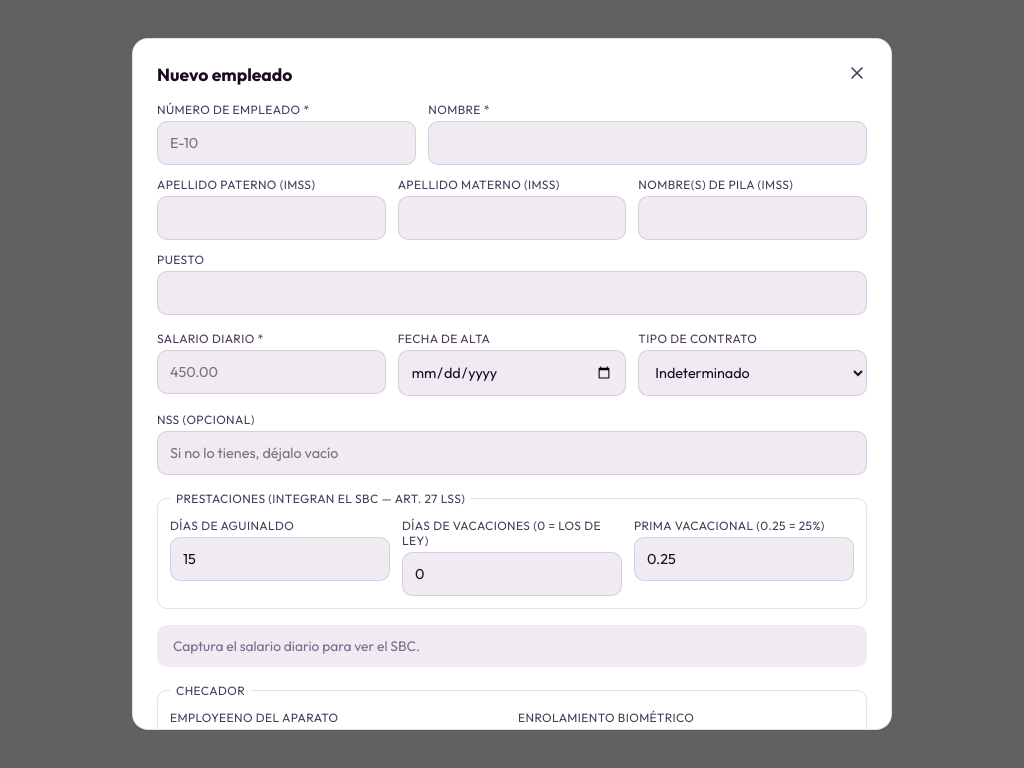
Test: ModalEmpleado · el número interno tampoco › avisa y no deja guardar si ya existe
This screenshot has width=1024, height=768.
Step 1. Type "N-01" into the field labelled "Número de empleado *" → {"x": 287, "y": 143}, box [157,121,416,165]
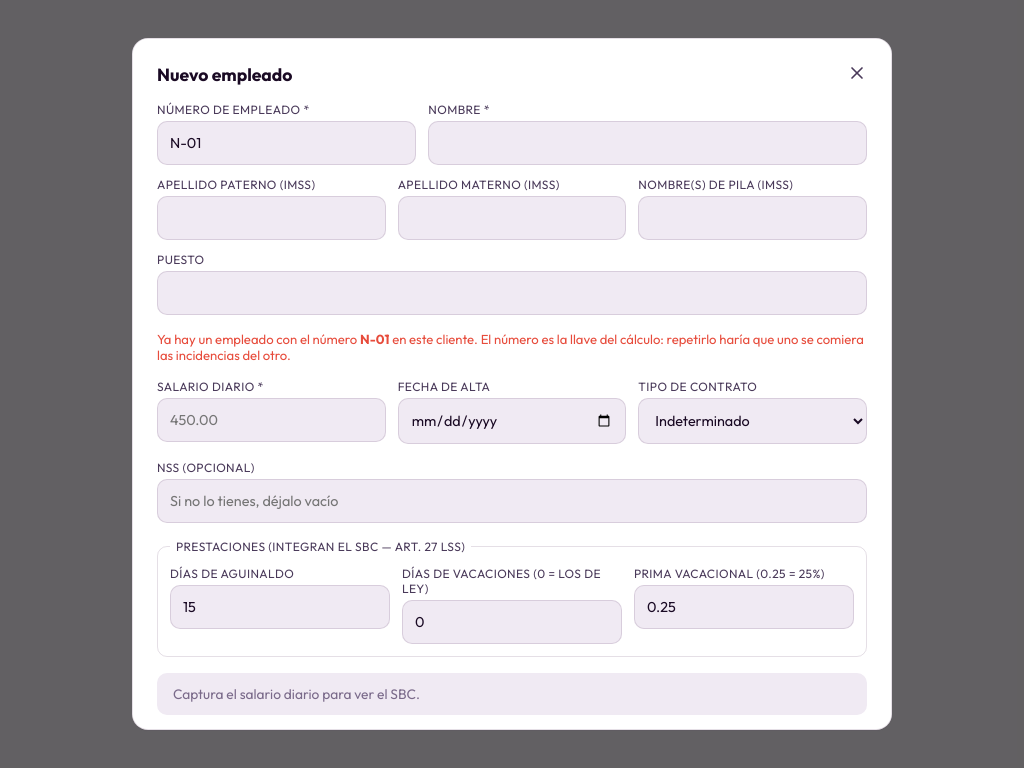
Step 2. Type "PERSONA NUEVA" into the field labelled "Nombre *" → {"x": 648, "y": 143}, box [428,121,867,165]
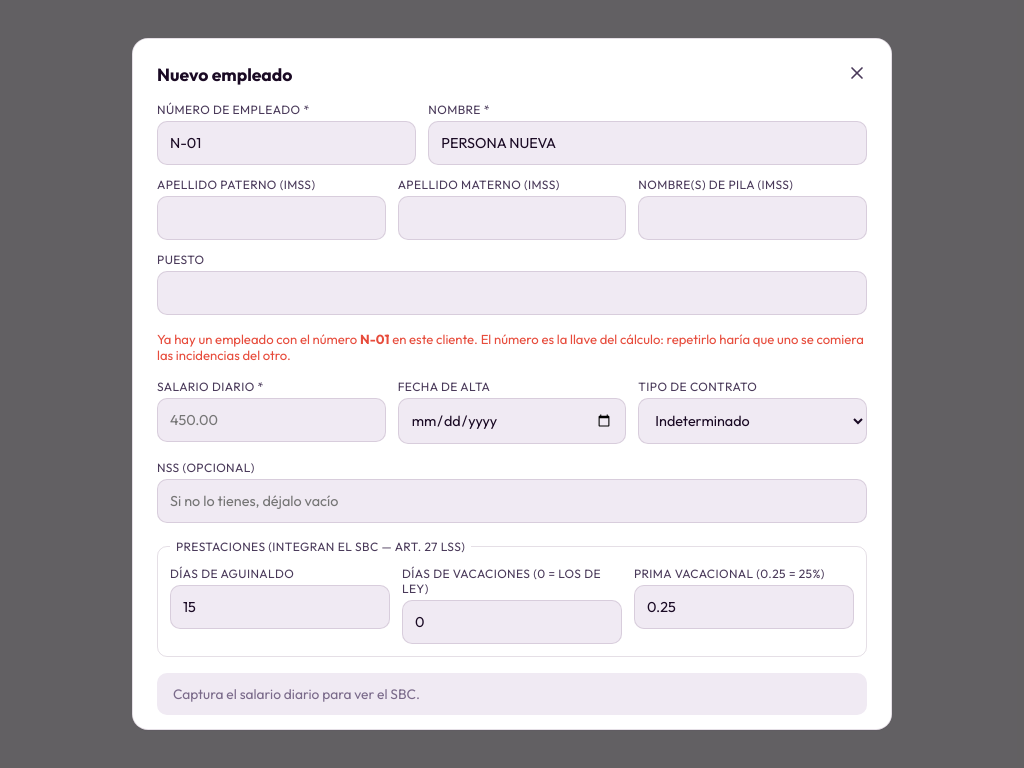
Step 3. Type "500.00" into the field labelled "Salario diario *" → {"x": 271, "y": 420}, box [157,398,386,442]
(page scrolled)
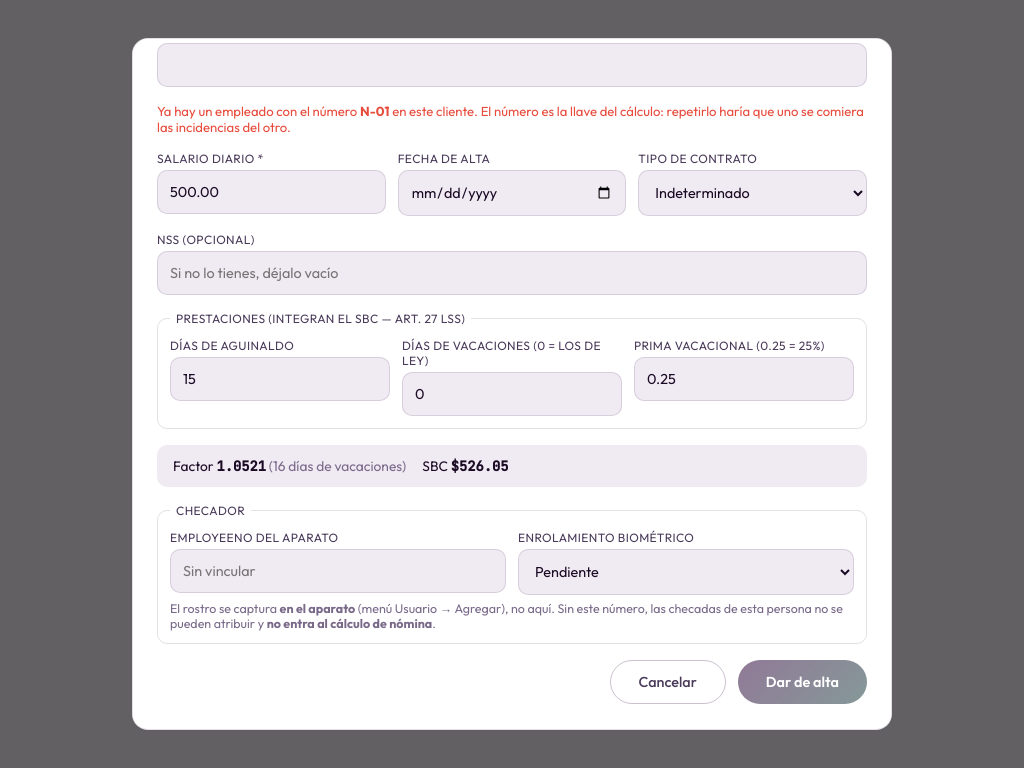
Check: the message shows "Ya hay un empleado con el número", box [157,103,360,119]
Check: the text "$526.05" is shown, box [451,457,509,475]
Check: the button "Dar de alta" is disabled, box [738,660,867,704]
